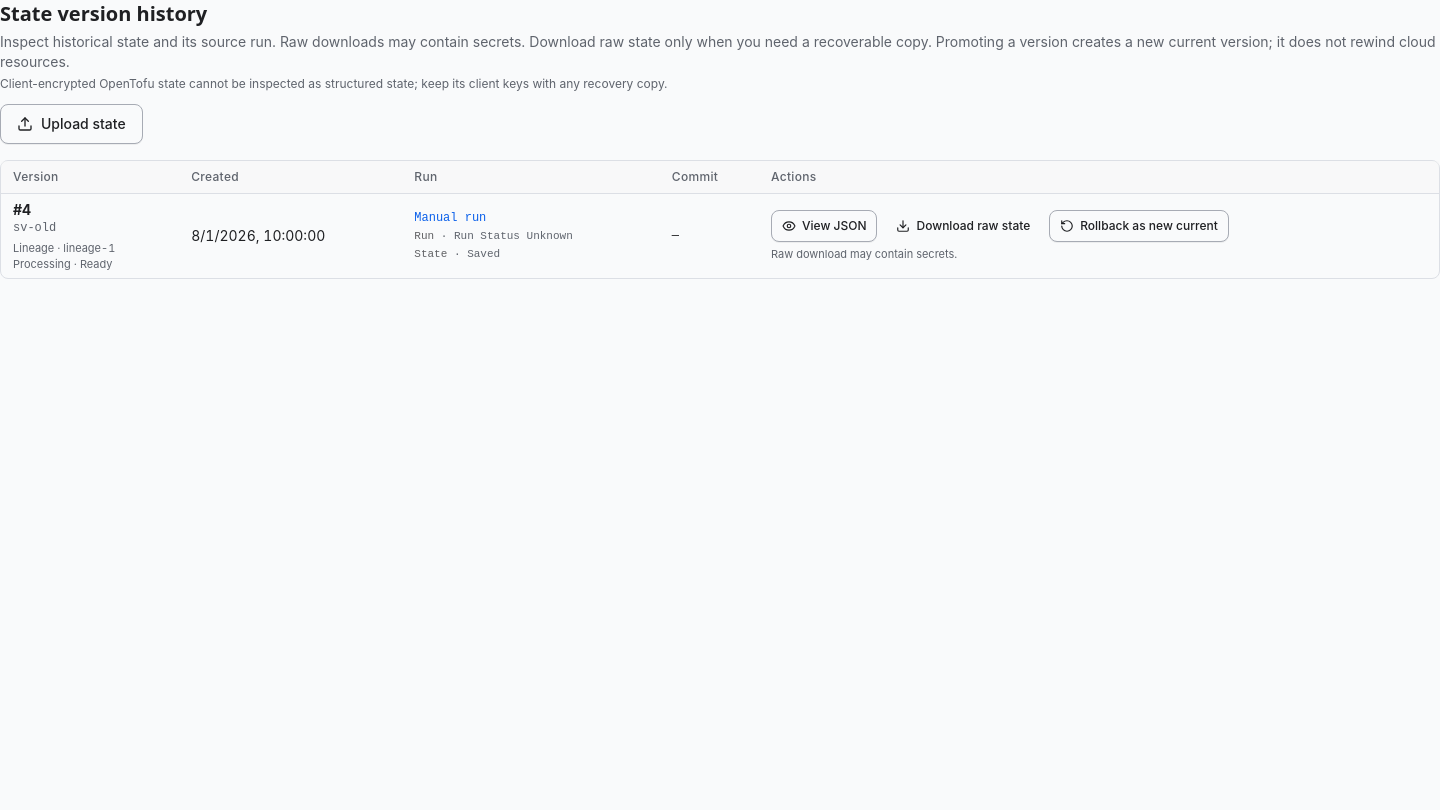
Test case: rollback explains provenance and promotes an older state as a new version
Expected: the text "sv-old" is shown, [13,220,56,234]
Click the button "Rollback as new current" at (1139, 226), box [1049,210,1229,242]
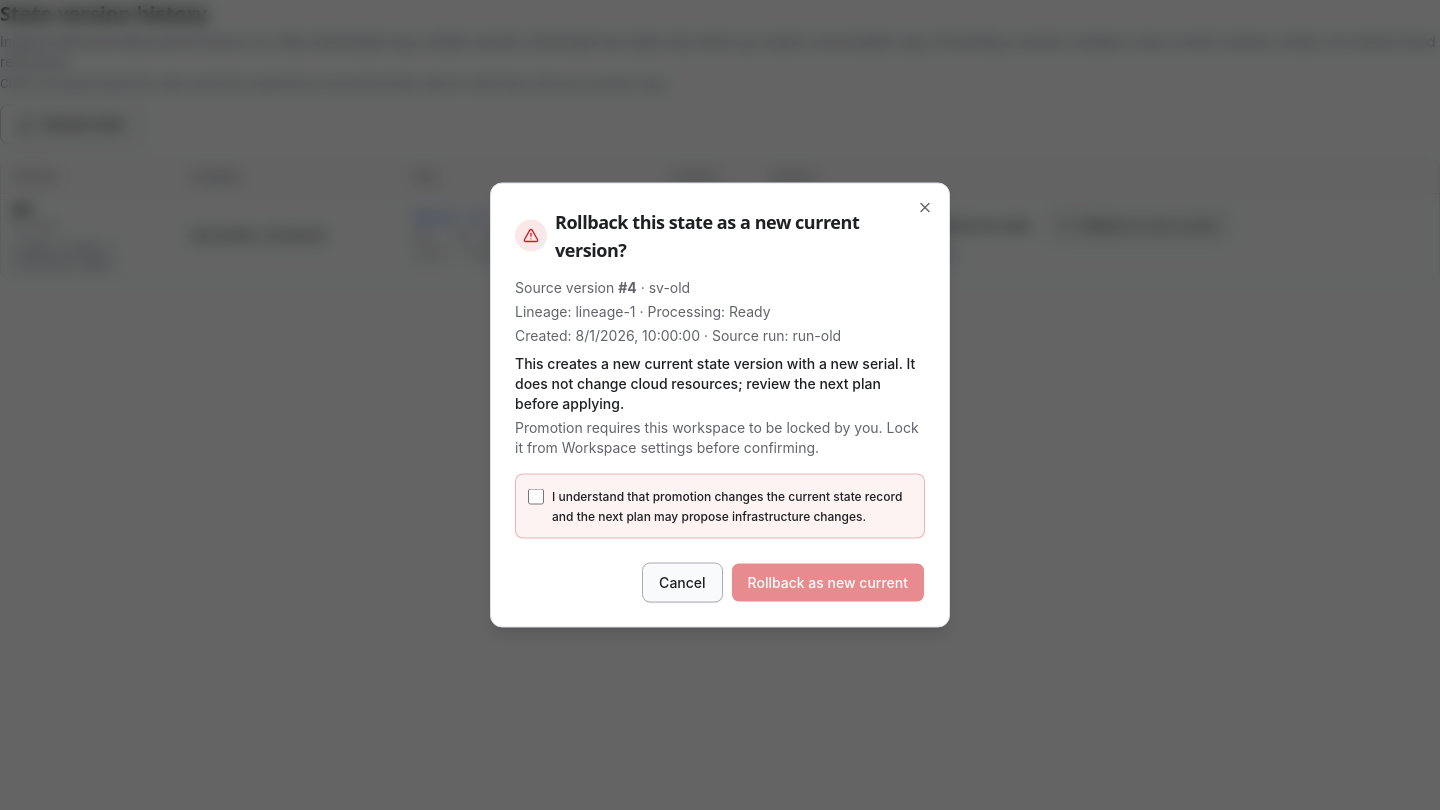
Result: the dialog shows "Lineage: lineage-1" at [490,182,950,628]
Result: the dialog shows "Source run: run-old" at [490,182,950,628]
Result: the dialog shows "does not change cloud resources" at [515,354,915,412]
Click the checkbox labelled "I understand that promotion changes" at (536, 496), box [528,488,544,504]
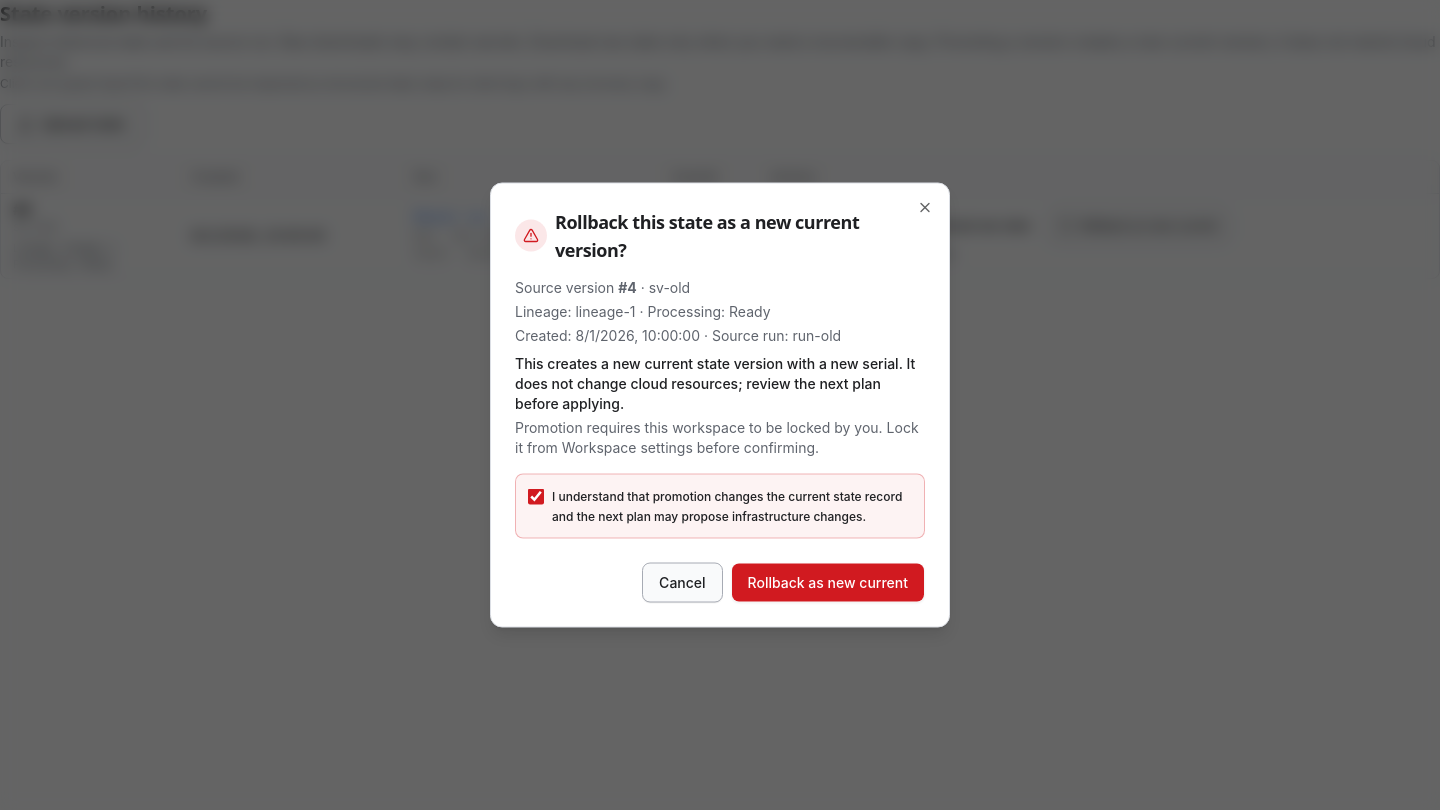
Click the button "Rollback as new current" at (828, 582), box [731,562,925,602]
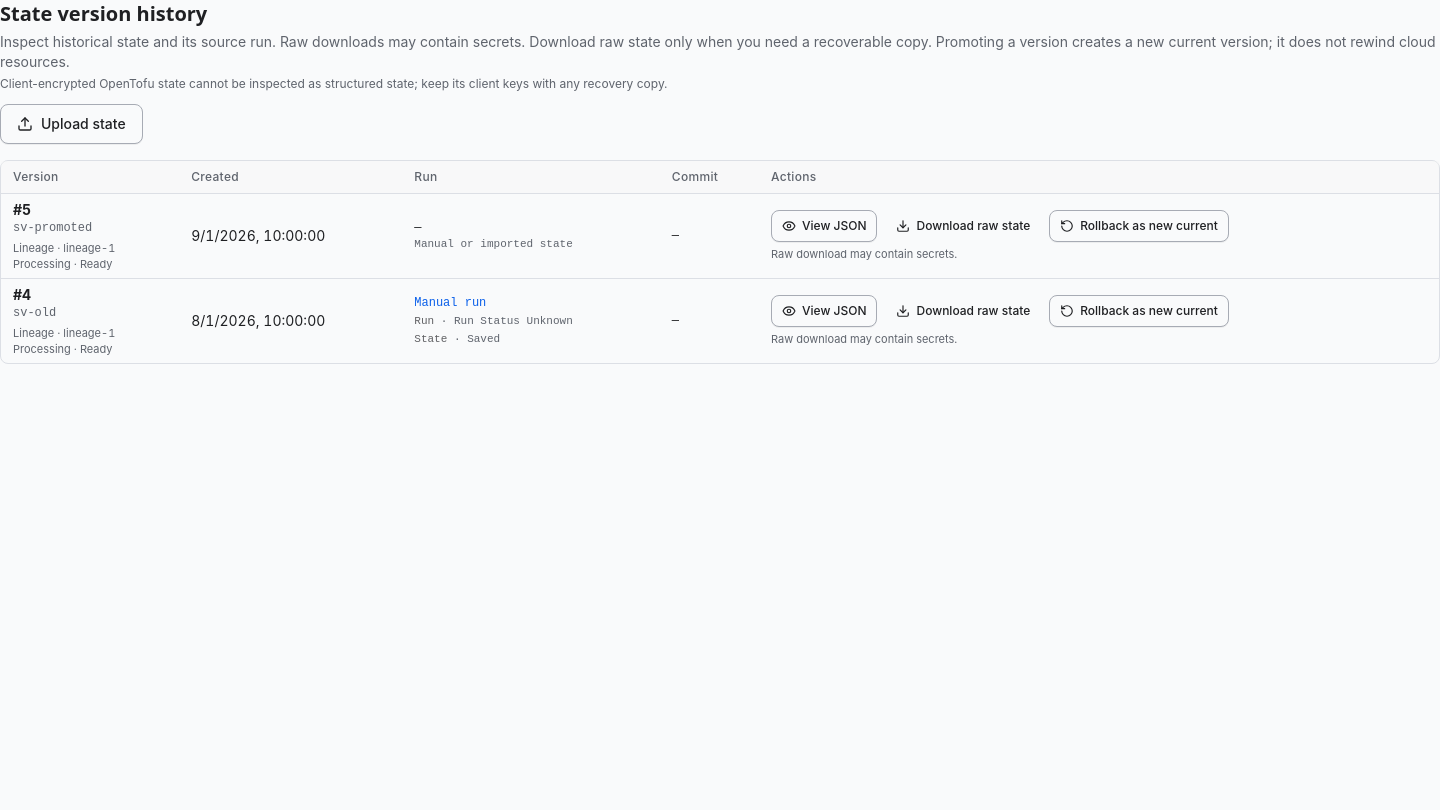
Result: the text "sv-promoted" is shown at [13,220,92,234]
